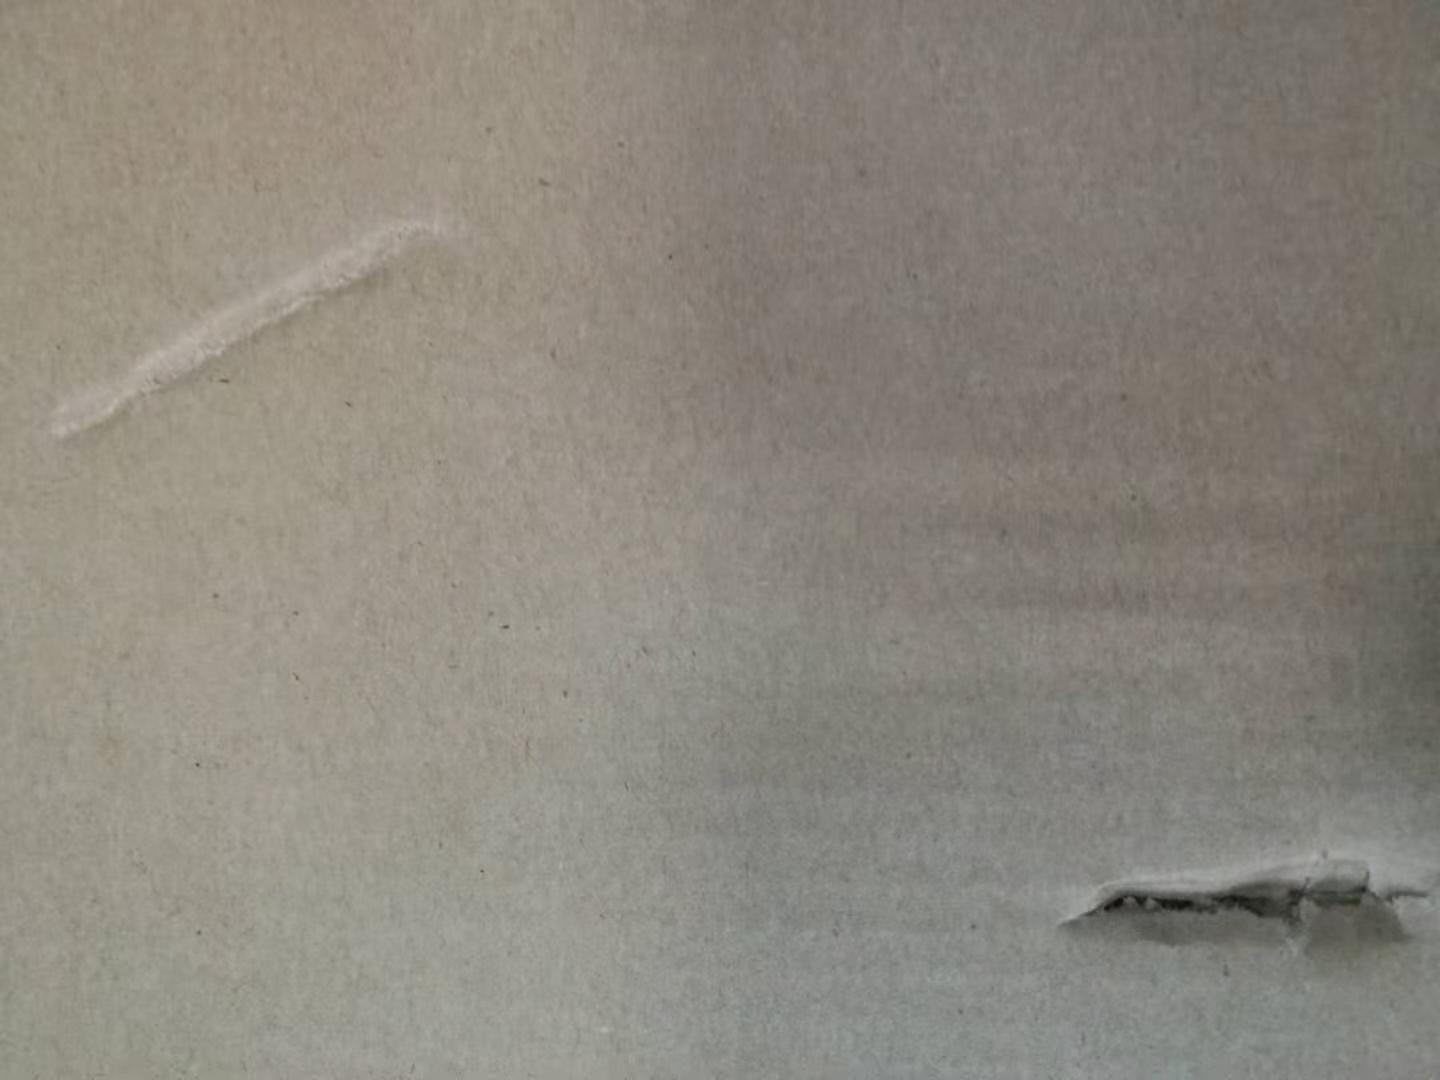defect: (24, 187, 489, 472), (1020, 816, 1440, 995)
